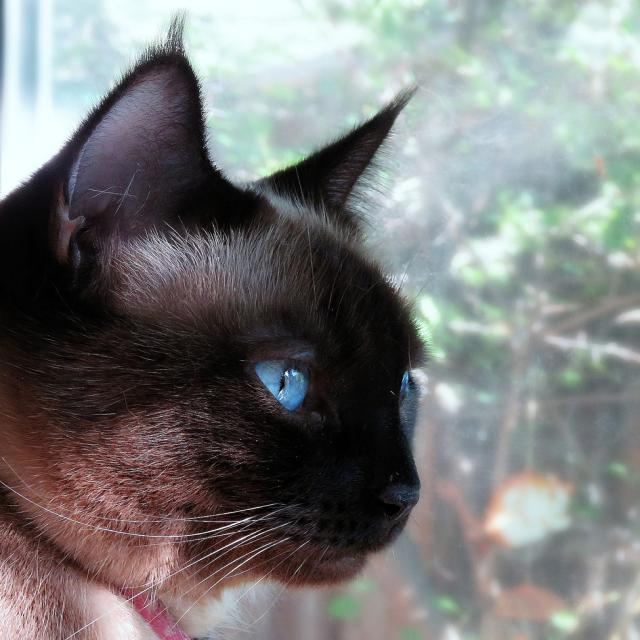Cat: (0, 10, 433, 639)
